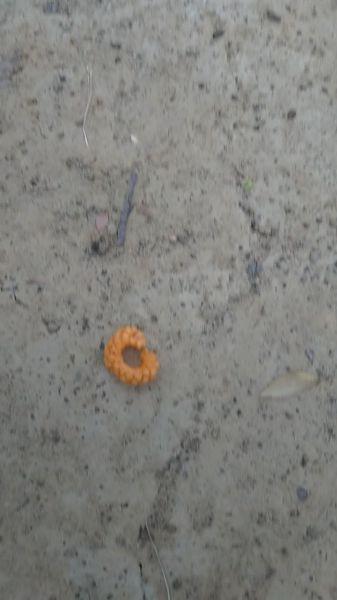eggs: (105, 319, 167, 388)
